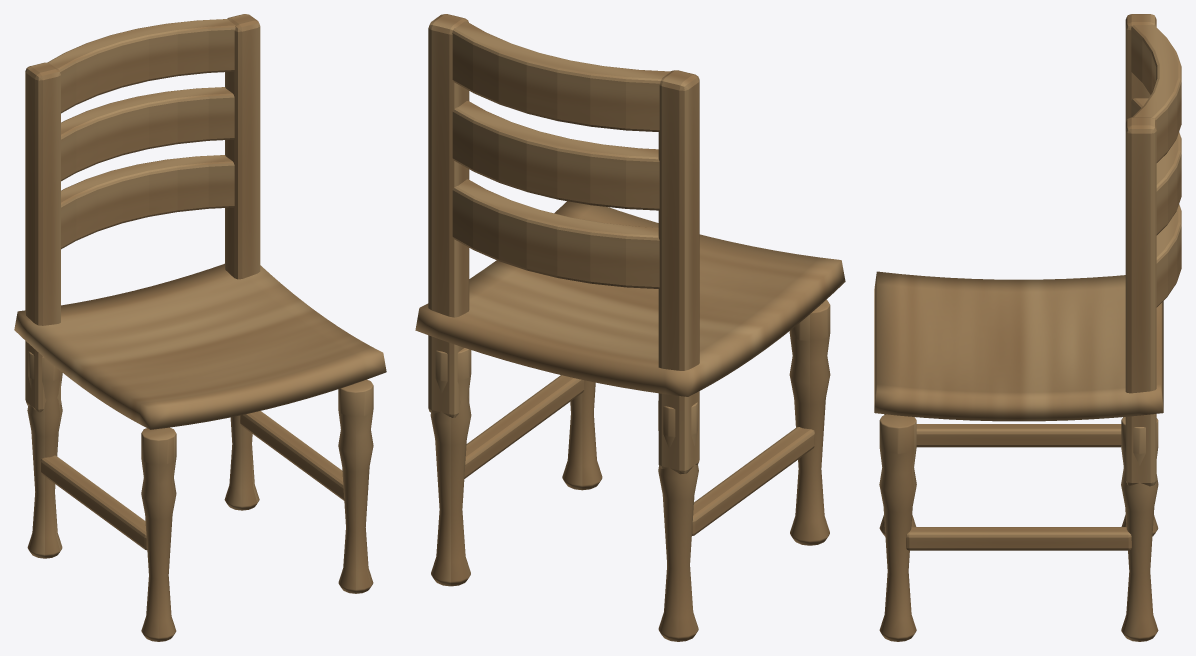
Rendered from chair.glb.
3 views of the same model, side by side, from view 1: azimuth 30°, elevation 25°; view 2: azimuth 150°, elevation 25°; view 3: azimuth 270°, elevation 25° (orthographic). The views are drawn at different scales.
Visible parts, largest first — view 1: curved_seat, back_post, back_slat.002, back_slat.001, back_slat, back_post.001, turned_leg.004, turned_leg.006, turned_leg.005, stretcher, stretcher.001, turned_leg.007; view 2: curved_seat, back_post, back_slat.002, back_slat, back_slat.001, back_post.001, turned_leg.004, turned_leg.007, turned_leg.005, stretcher, stretcher.001, turned_leg.006; view 3: curved_seat, back_post.001, turned_leg.006, stretcher.001, turned_leg.007, stretcher, back_slat.002, back_slat.001, back_slat, back_post.
Part boxes in pixels (x1,y1,x2,y2): curved_seat: [14, 263, 386, 429]; back_post: [25, 62, 60, 412]; back_slat.002: [47, 19, 235, 113]; back_slat.001: [61, 87, 234, 181]; back_slat: [61, 155, 234, 249]; back_post.001: [225, 14, 260, 279]; turned_leg.004: [141, 427, 176, 641]; turned_leg.006: [338, 379, 373, 593]; turned_leg.005: [27, 351, 62, 558]; stretcher: [40, 455, 147, 550]; stretcher.001: [240, 411, 344, 500]; turned_leg.007: [224, 415, 259, 510]; curved_seat: [415, 201, 845, 396]; back_post: [658, 70, 699, 474]; back_slat.002: [452, 21, 670, 131]; back_slat: [452, 179, 659, 288]; back_slat.001: [452, 101, 659, 210]; back_post.001: [428, 14, 469, 417]; turned_leg.004: [789, 300, 830, 545]; turned_leg.007: [430, 348, 471, 586]; turned_leg.005: [658, 401, 698, 641]; stretcher: [692, 427, 814, 535]; stretcher.001: [464, 375, 584, 478]; turned_leg.006: [562, 380, 602, 490]; curved_seat: [874, 271, 1163, 421]; back_post.001: [1125, 117, 1156, 486]; turned_leg.006: [879, 414, 916, 641]; stretcher.001: [906, 527, 1131, 550]; turned_leg.007: [1121, 417, 1158, 641]; stretcher: [916, 424, 1121, 447]; back_slat.002: [1131, 24, 1181, 162]; back_slat.001: [1131, 98, 1181, 235]; back_slat: [1156, 204, 1181, 307]; back_post: [1125, 14, 1156, 122].
Bounding box in the file's own units: 0.5093 × 1 × 0.5411.
2 materials, 2 textured.
